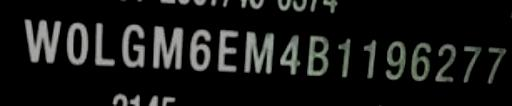letter: (20, 12, 64, 66), (148, 16, 186, 75), (240, 21, 276, 80), (114, 19, 150, 73), (91, 18, 121, 75), (184, 23, 216, 75), (304, 27, 334, 81), (213, 21, 241, 73), (62, 12, 88, 66), (277, 24, 303, 76), (382, 32, 408, 81), (356, 30, 380, 80), (334, 32, 358, 80), (410, 33, 432, 85), (432, 37, 456, 84), (458, 41, 484, 83), (486, 39, 506, 86)
